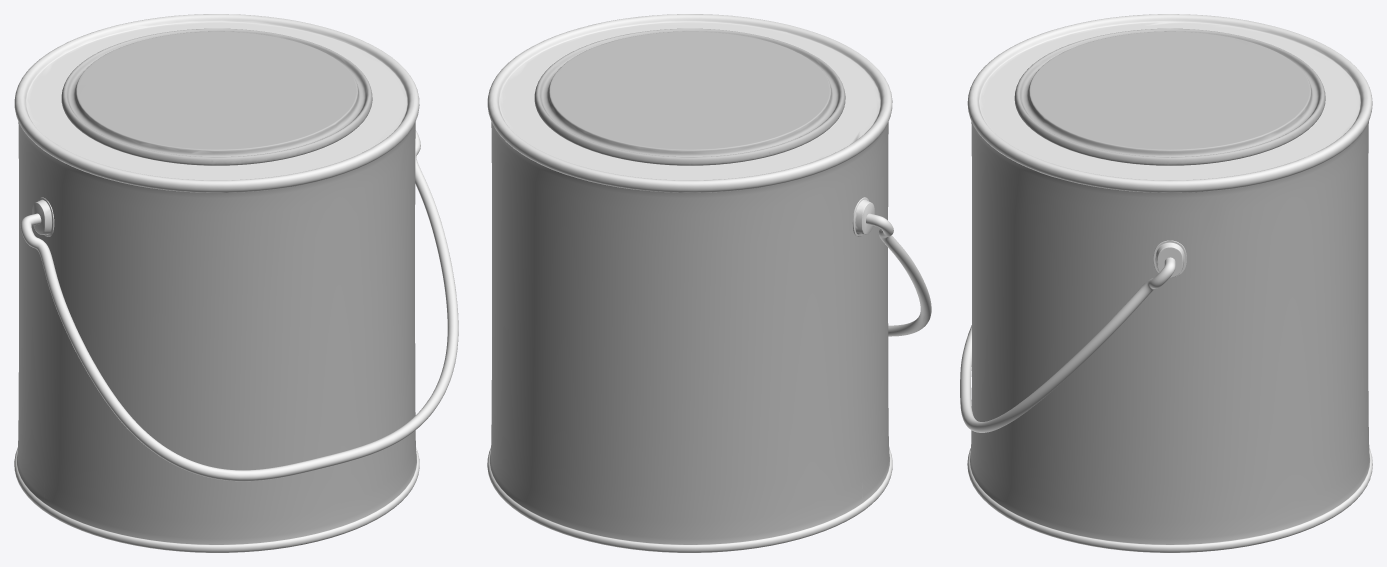
Rendered from bucket.min.glb.
3 renders of one model, left to right at view 1: azimuth 30°, elevation 25°; view 2: azimuth 150°, elevation 25°; view 3: azimuth 270°, elevation 25°, orthographic.
Visible parts, largest first — view 1: model1biglid; view 2: model1biglid; view 3: model1biglid.
Boxes of the visible parts, x1,y1,x2,y2 form: model1biglid: (14,14,458,552); model1biglid: (487,14,931,552); model1biglid: (960,14,1372,552).
Bounding box in the file's own units: 0.1978 × 0.1804 × 0.1786.
1 material, 1 textured.
